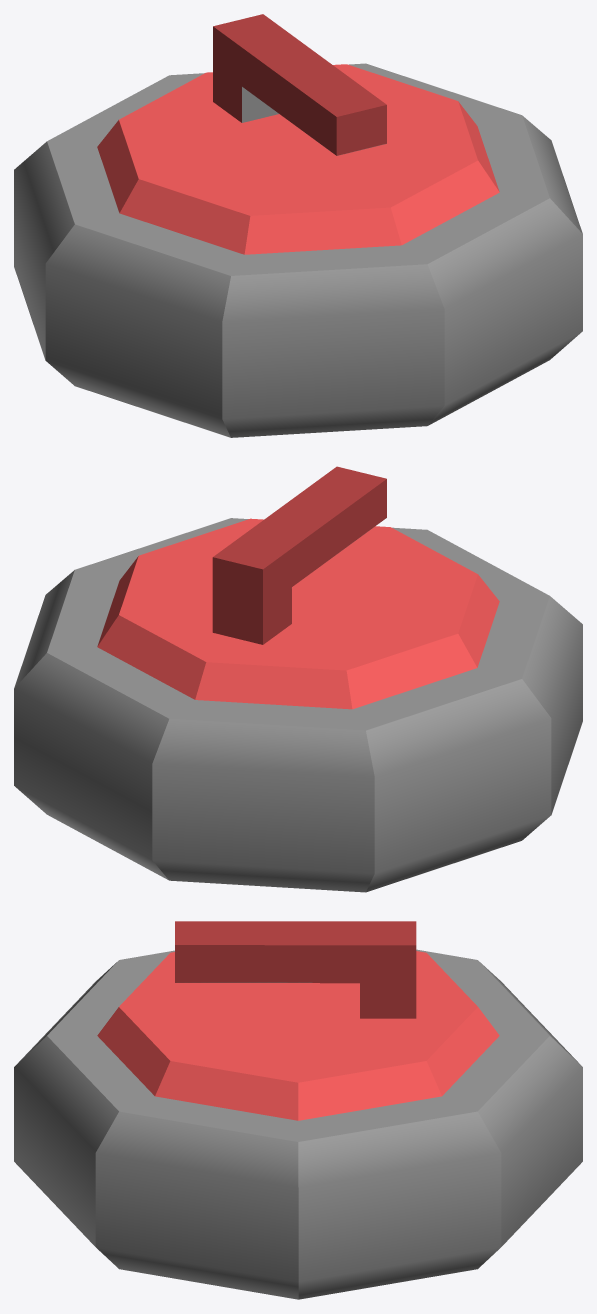
Rendered from new_curling.fbx.
3 views of the same model, one above another, from view 1: azimuth 30°, elevation 25°; view 2: azimuth 150°, elevation 25°; view 3: azimuth 270°, elevation 25° (orthographic). The views are drawn at different scales.
Parts seen in each view (by area): view 1: Curling; view 2: Curling; view 3: Curling.
Part boxes in pixels (x1,y1,x2,y2): Curling: [14, 14, 582, 437]; Curling: [14, 466, 582, 892]; Curling: [14, 921, 582, 1299].
Size of the model in its own units: 72.88 by 36.77 by 72.88.
1 material, 1 textured.
